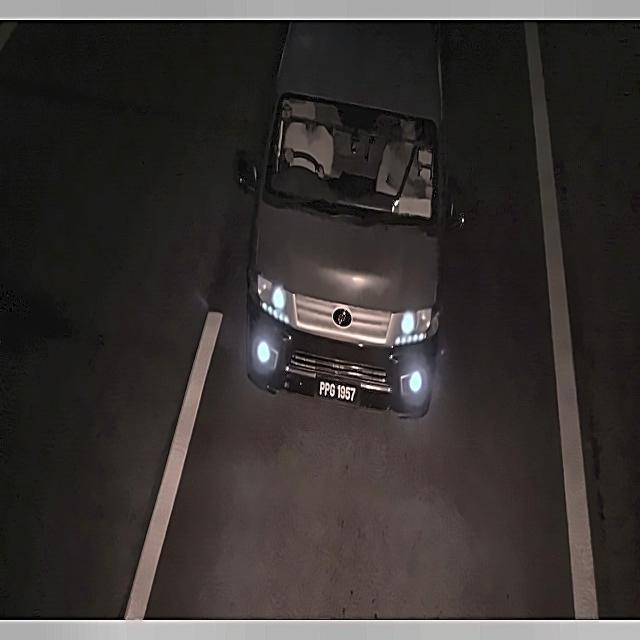car: (313, 372, 363, 406)
